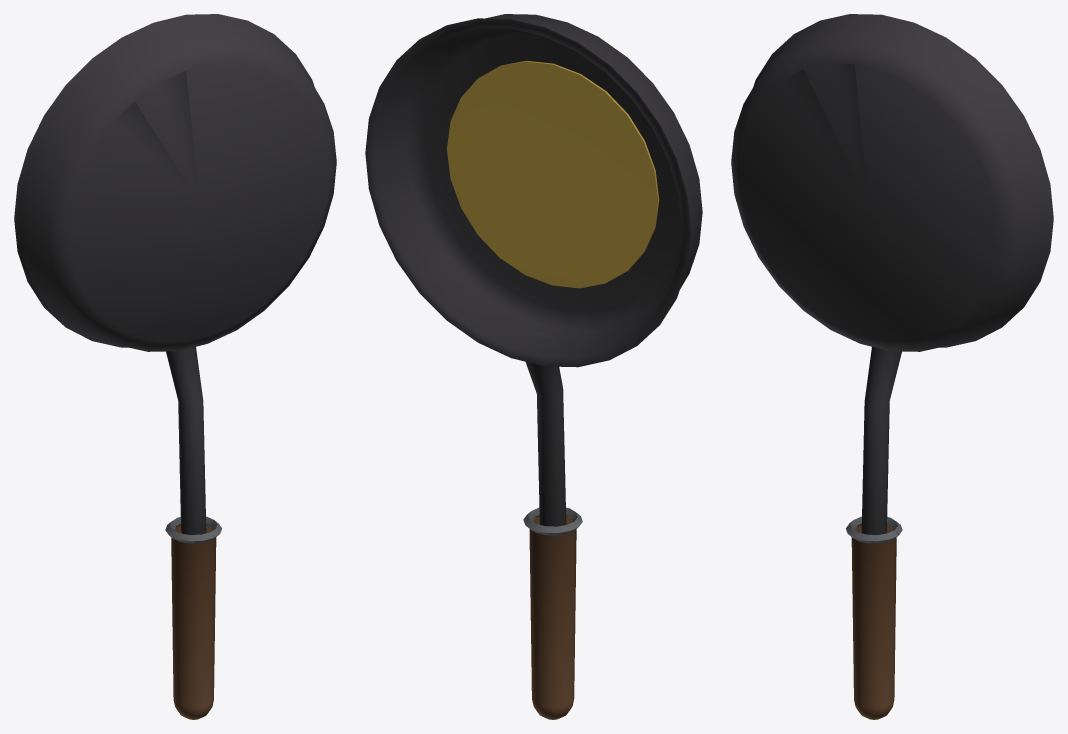
The model's file is cook_pan.glb.
The picture shows the model from 3 angles, left to right: view 1: azimuth 30°, elevation 25°; view 2: azimuth 150°, elevation 25°; view 3: azimuth 330°, elevation 25°; orthographic projection. The views are drawn at different scales.
Visible parts, largest first — view 1: cook_pan; view 2: cook_pan; view 3: cook_pan.
Boxes of the visible parts, x1=… form: cook_pan: x1=14, y1=14, x2=336, y2=719; cook_pan: x1=365, y1=14, x2=702, y2=719; cook_pan: x1=731, y1=14, x2=1053, y2=719.
Bounding box in the file's own units: 0.3024 × 0.6324 × 0.0634.
